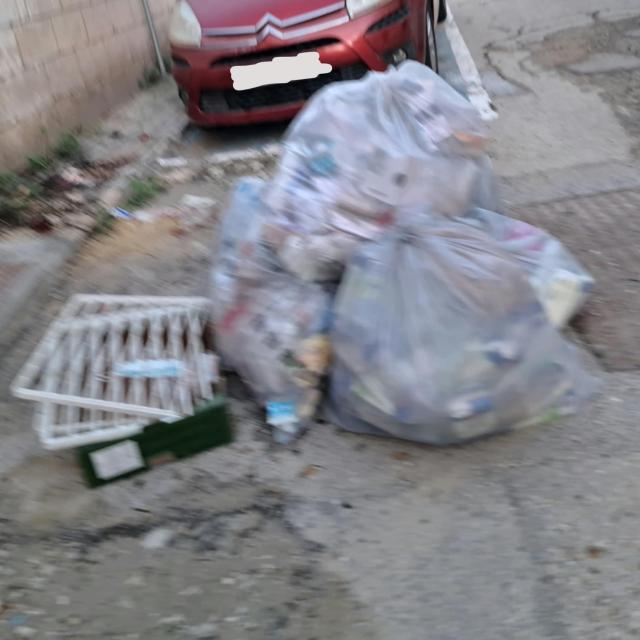Recycled Waste -Grey or Green Bag-: (329, 188, 602, 448), (264, 60, 505, 287), (213, 276, 333, 448), (220, 176, 309, 281)
